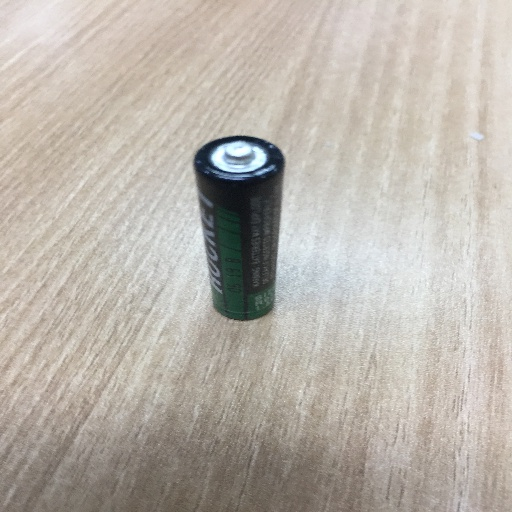Battery_0: (186, 127, 297, 332)
